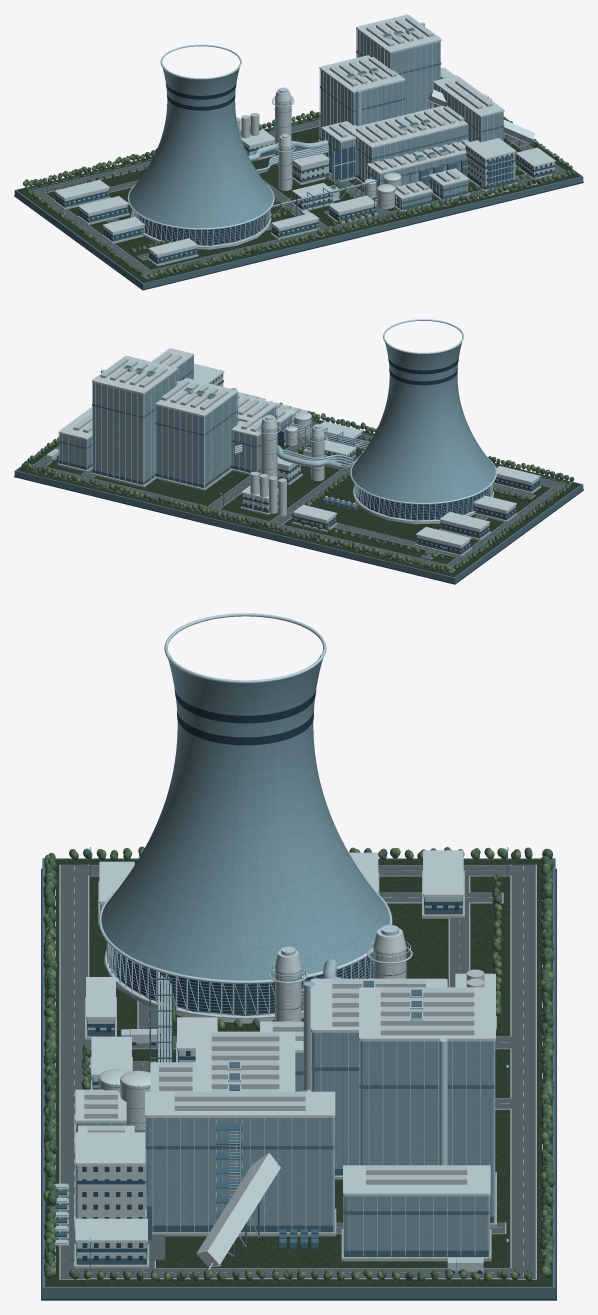
File: factory-campus.glb
The picture shows the model from 3 angles, top to bottom: view 1: azimuth 30°, elevation 25°; view 2: azimuth 150°, elevation 25°; view 3: azimuth 270°, elevation 25°; orthographic projection. The views are drawn at different scales.
Parts seen in each view (by area): view 1: 智慧工厂 · 可编辑建筑模型; view 2: 智慧工厂 · 可编辑建筑模型; view 3: 智慧工厂 · 可编辑建筑模型.
Boxes of the visible parts, bbox=[...] form: 智慧工厂 · 可编辑建筑模型: bbox=[14, 14, 583, 290]; 智慧工厂 · 可编辑建筑模型: bbox=[14, 319, 583, 584]; 智慧工厂 · 可编辑建筑模型: bbox=[41, 613, 556, 1300].
Bounding box in the file's own units: 190 × 68.1 × 96.4.
Materials: 24 (4 with a texture image).
